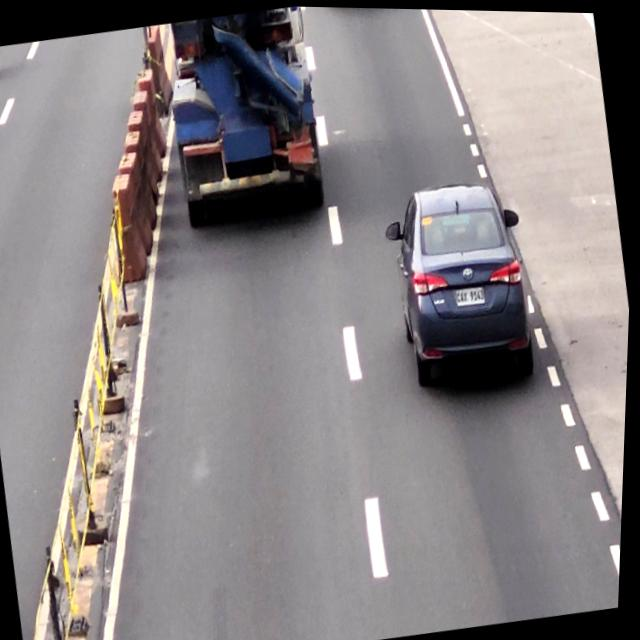Car: (388, 173, 548, 397)
License-Plate: (456, 280, 489, 307)
Truck: (152, 3, 334, 230)
